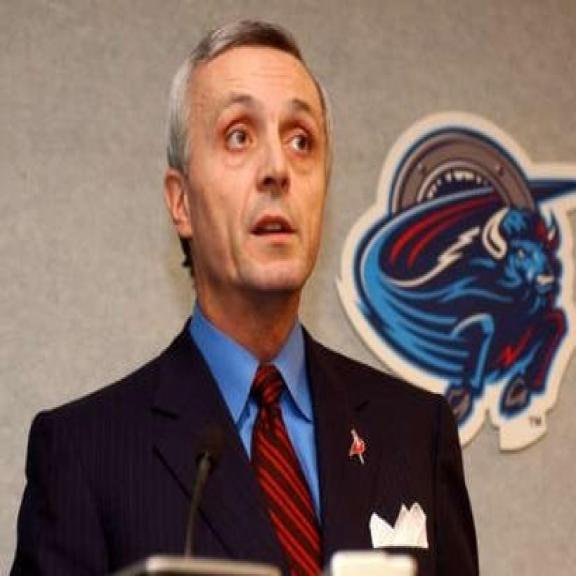face: (162, 18, 335, 307)
